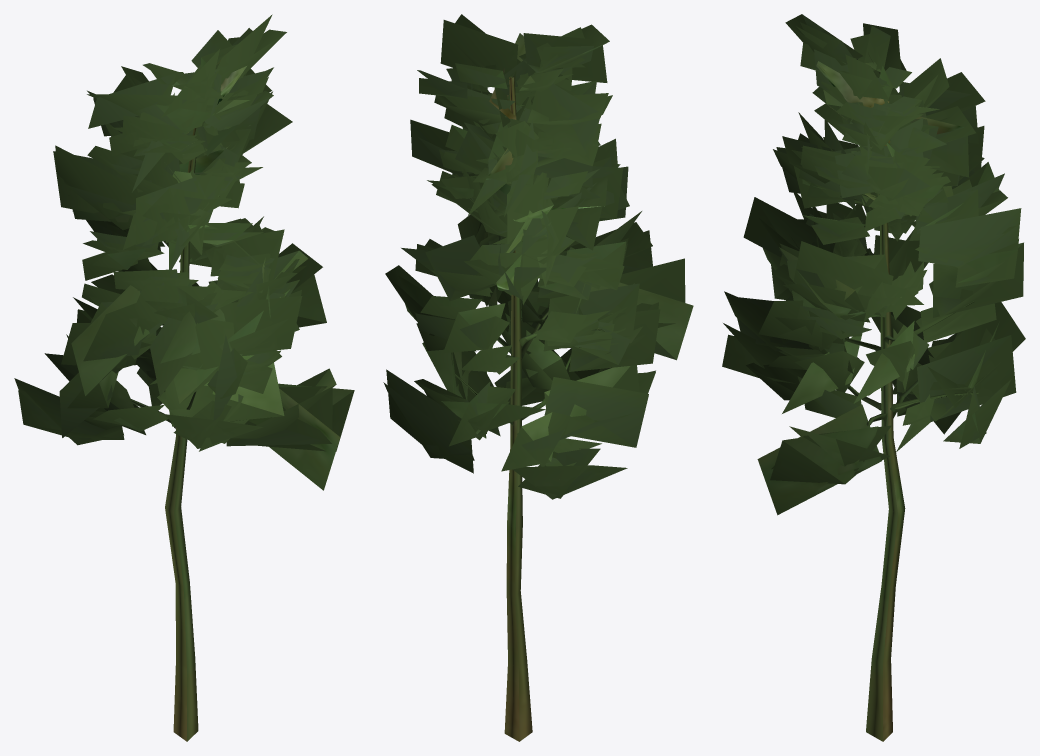
File: Conifer.obj
3 renders of one model, left to right at view 1: azimuth 30°, elevation 25°; view 2: azimuth 150°, elevation 25°; view 3: azimuth 270°, elevation 25°, orthographic. The views are drawn at different scales.
Visible parts, largest first — view 1: MM_Conifer_Desktop_LOD2_0; view 2: MM_Conifer_Desktop_LOD2_0; view 3: MM_Conifer_Desktop_LOD2_0.
Part boxes in pixels (bbox=[...]): MM_Conifer_Desktop_LOD2_0: bbox=[14, 14, 354, 741]; MM_Conifer_Desktop_LOD2_0: bbox=[383, 14, 693, 741]; MM_Conifer_Desktop_LOD2_0: bbox=[722, 14, 1025, 741].
Size of the model in its own units: 11.95 by 29.2 by 11.34.
1 material, 1 textured.
